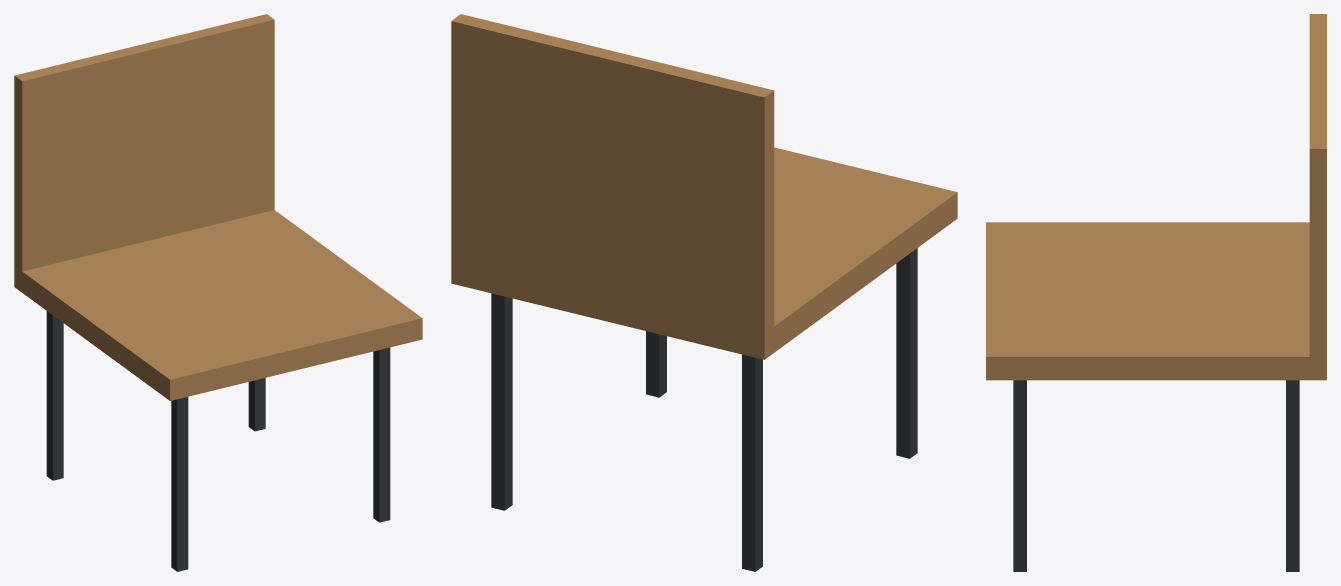
Rendered from chair_armchair_upholstered.glb.
3 views of the same model, side by side, from view 1: azimuth 30°, elevation 25°; view 2: azimuth 150°, elevation 25°; view 3: azimuth 270°, elevation 25° (orthographic). The views are drawn at different scales.
Size of the model in its own units: 0.5588 by 0.8382 by 0.5969.
